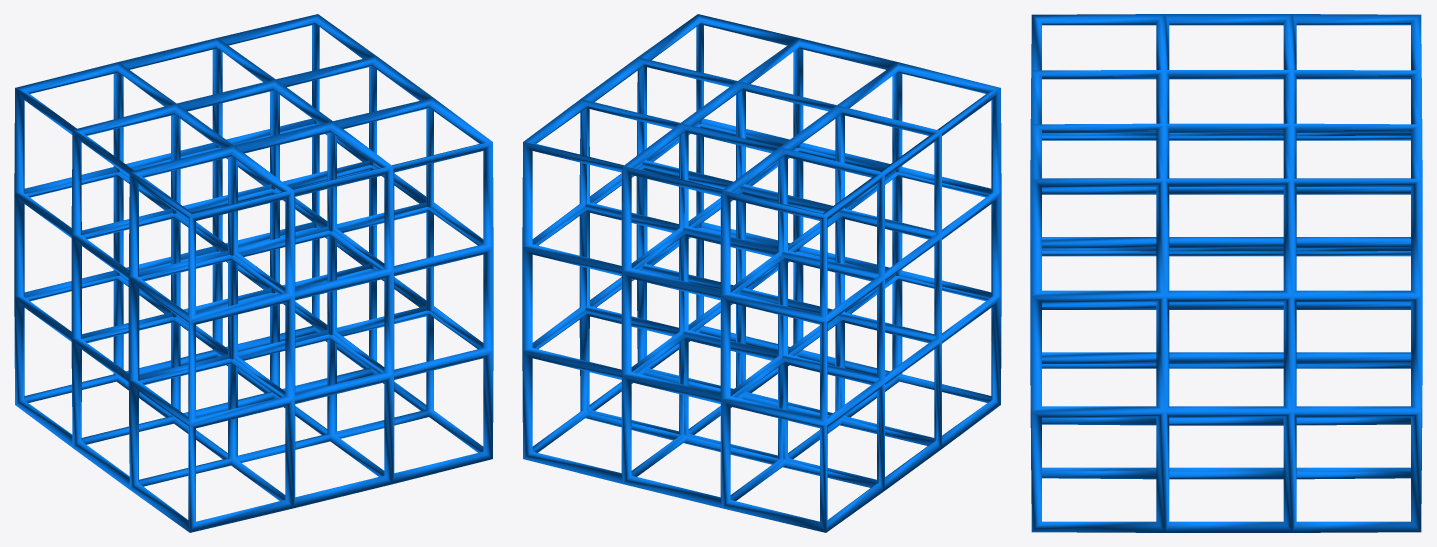
Rendered from databar-v2.glb.
3 renders of one model, left to right at view 1: azimuth 30°, elevation 25°; view 2: azimuth 150°, elevation 25°; view 3: azimuth 270°, elevation 25°, orthographic. The views are drawn at different scales.
Visible parts, largest first — view 1: Cube; view 2: Cube; view 3: Cube.
Part boxes in pixels (left/top/right/bottom): Cube: left=14, top=14, right=493, bottom=532; Cube: left=522, top=14, right=1001, bottom=532; Cube: left=1030, top=14, right=1422, bottom=532.
Size of the model in its own units: 6.16 by 6.16 by 6.16.
